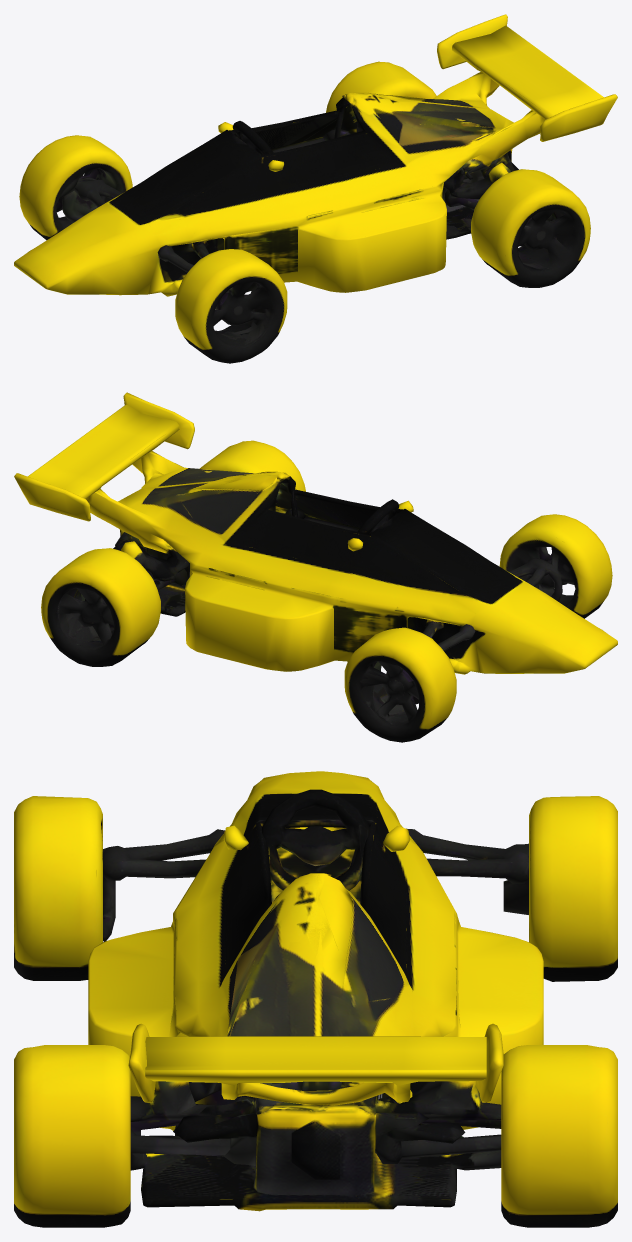
3 renders of one model, top to bottom at view 1: azimuth 30°, elevation 25°; view 2: azimuth 150°, elevation 25°; view 3: azimuth 270°, elevation 25°, orthographic. The views are drawn at different scales.
Size of the model in its own units: 1.89 by 0.5284 by 1.12.
Materials: 1 (1 with a texture image).
